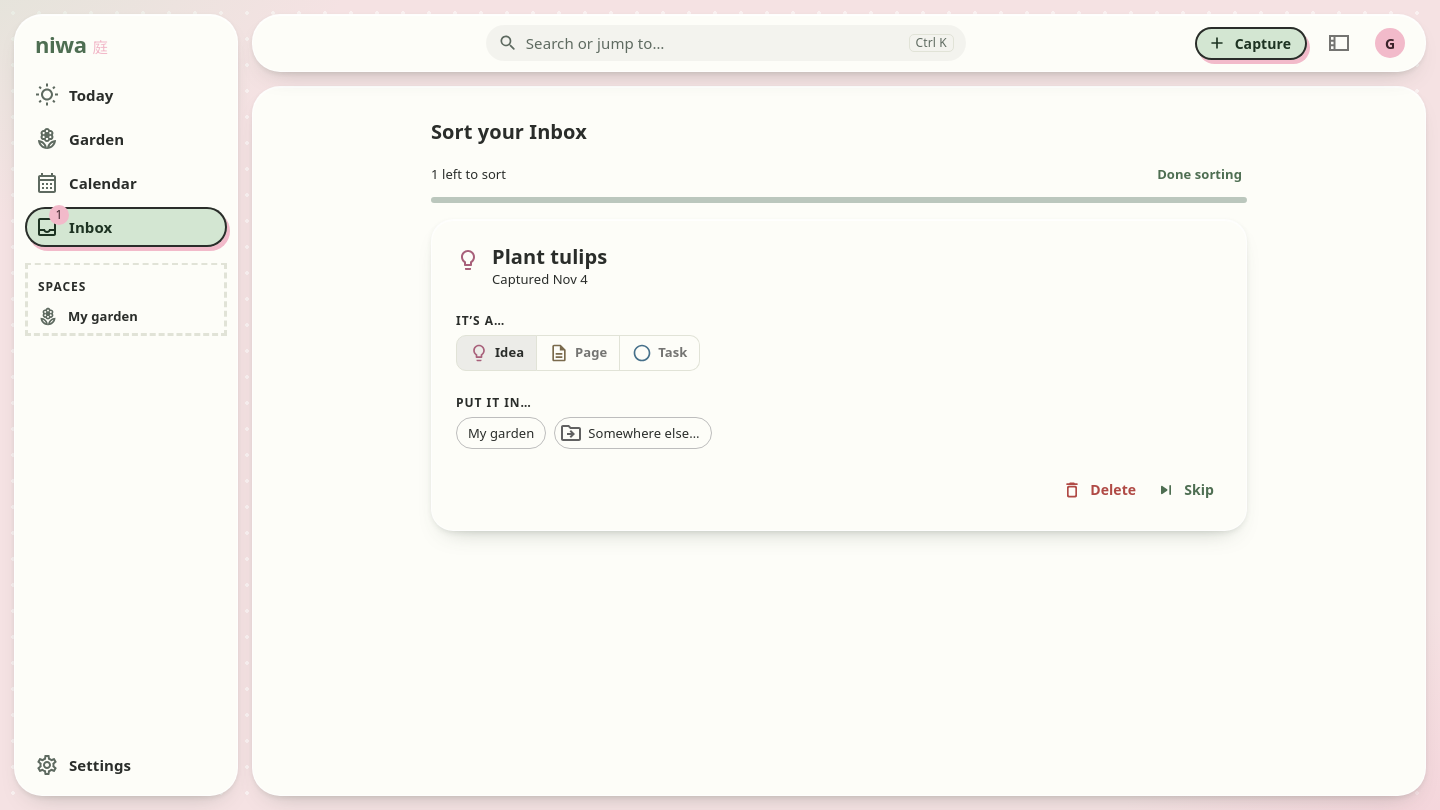
Scenario: Inbox triage (B13) › files one capture at a time, as the chosen kind, then says all sorted
The image size is (1440, 810).
Click the button "Task": coordinates (660, 353) [619,335,700,371]
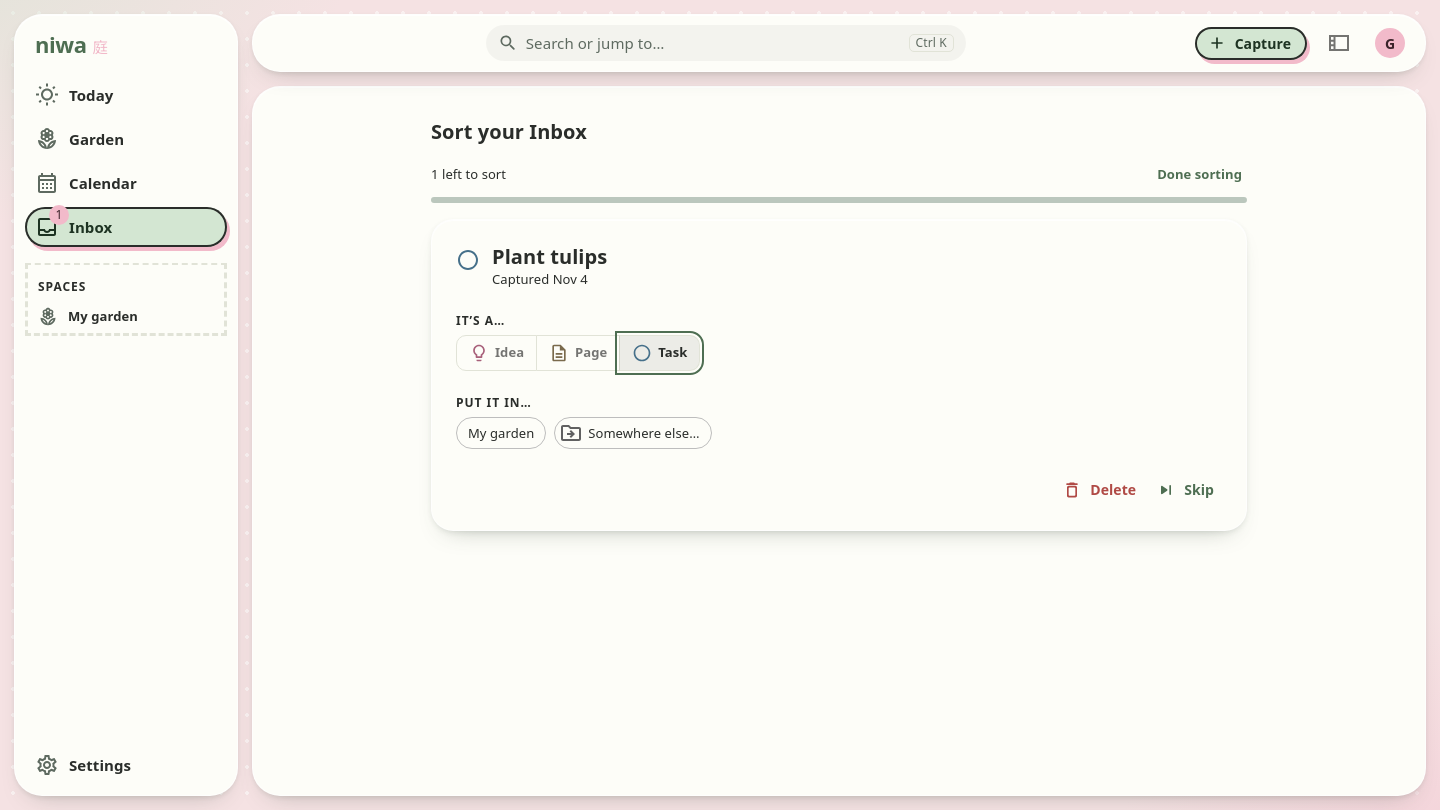
Click the button "My garden": coordinates (501, 433) [456,417,546,449]
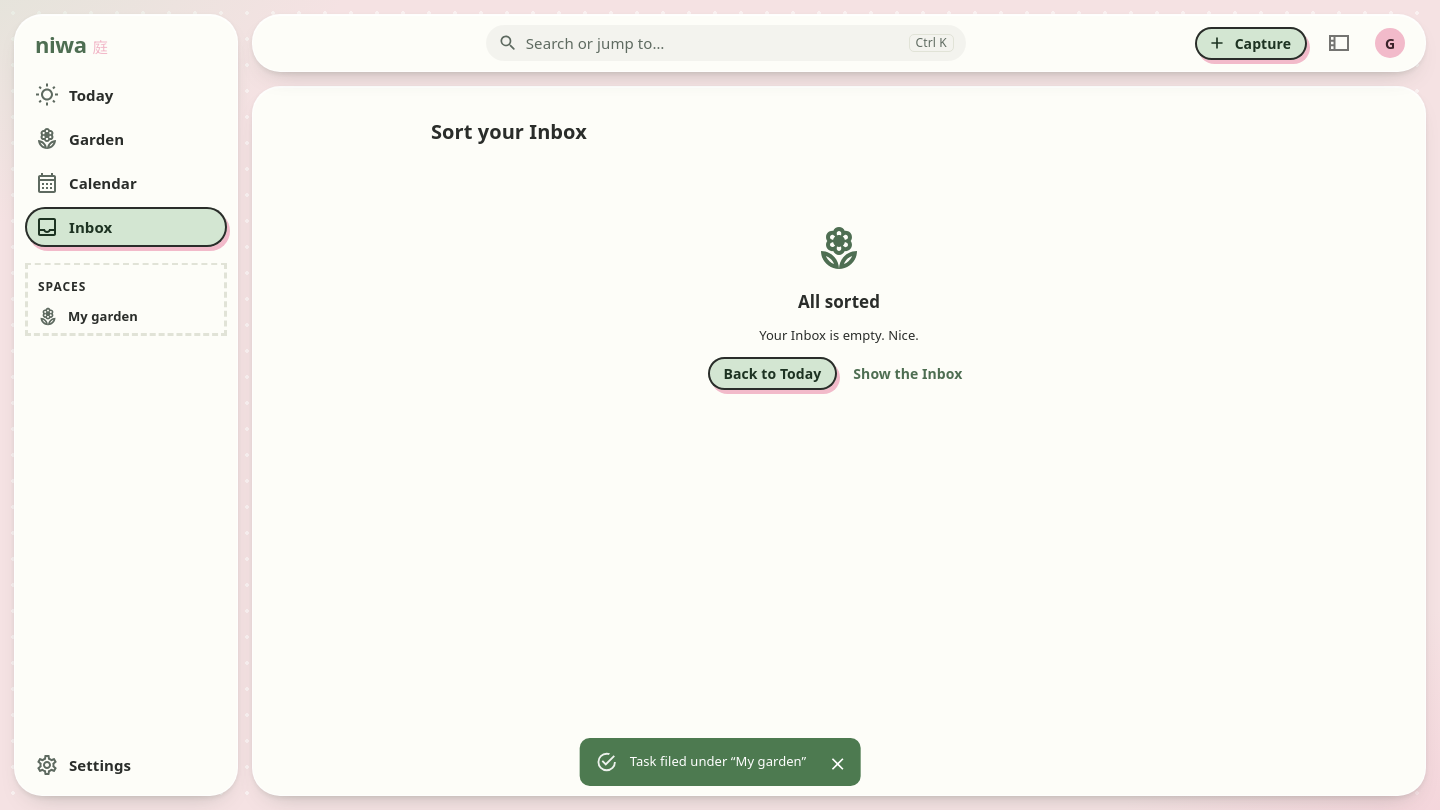
Result: the text "All sorted" is shown at [798,291,880,314]
